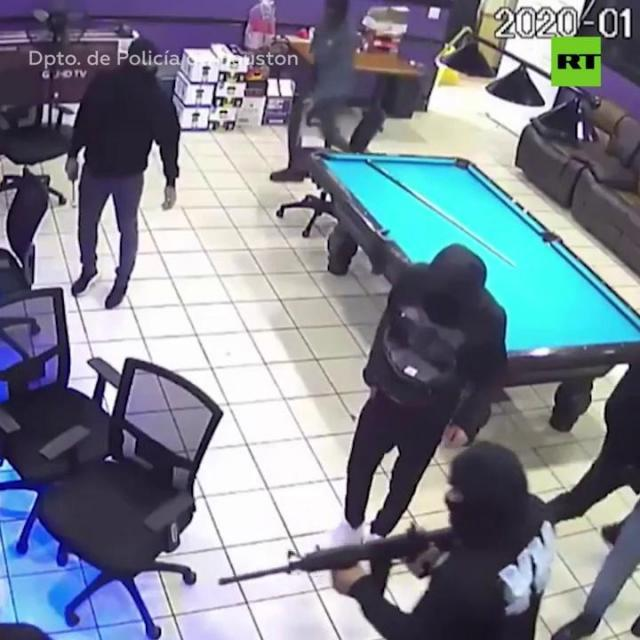weapon: (212, 514, 458, 618)
